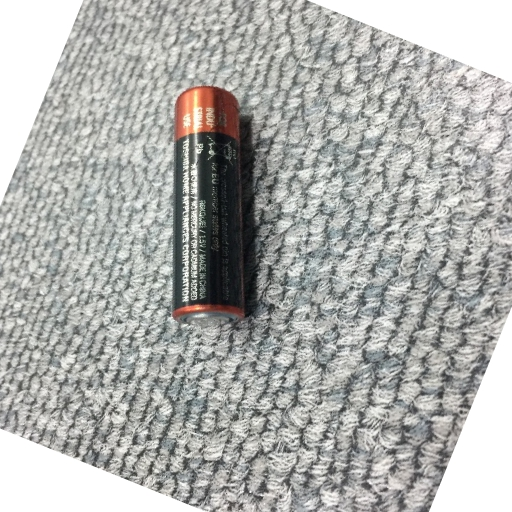Battery_0: (162, 76, 269, 351)
